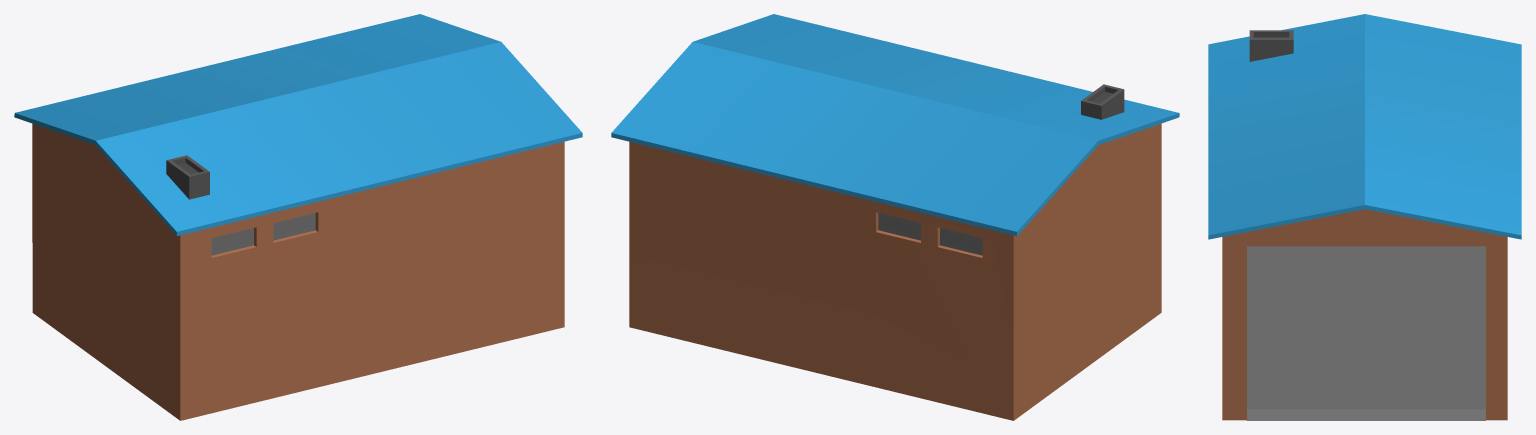
File: Garage.fbx
The picture shows the model from 3 angles, left to right: view 1: azimuth 30°, elevation 25°; view 2: azimuth 150°, elevation 25°; view 3: azimuth 270°, elevation 25°; orthographic projection. The views are drawn at different scales.
Parts seen in each view (by area): view 1: Garage; view 2: Garage; view 3: Garage.
Boxes of the visible parts, x1,y1,x2,y2 form: Garage: (14, 14, 582, 420); Garage: (611, 14, 1179, 420); Garage: (1208, 14, 1521, 420).
Size of the model in its own units: 667 by 359 by 462.
